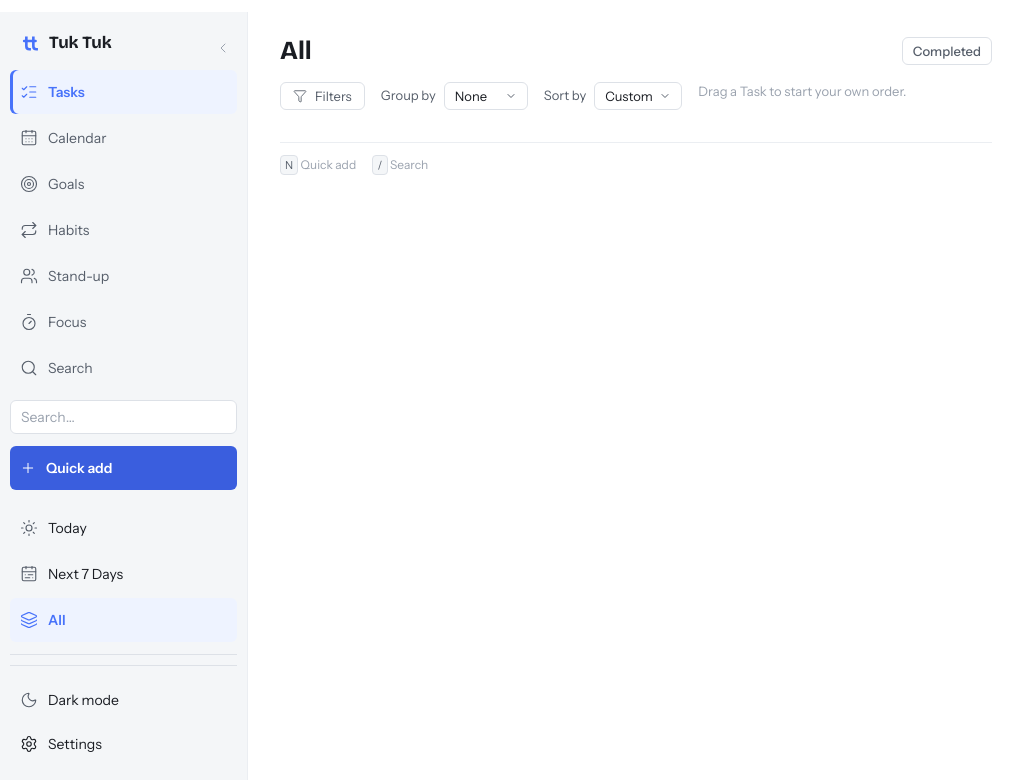
it: Assist settings (ADR 0005) › Test connection reports availability from the status endpoint
Click the link "Settings".
click(61, 744)  # box [20, 734, 102, 753]
(page scrolled)
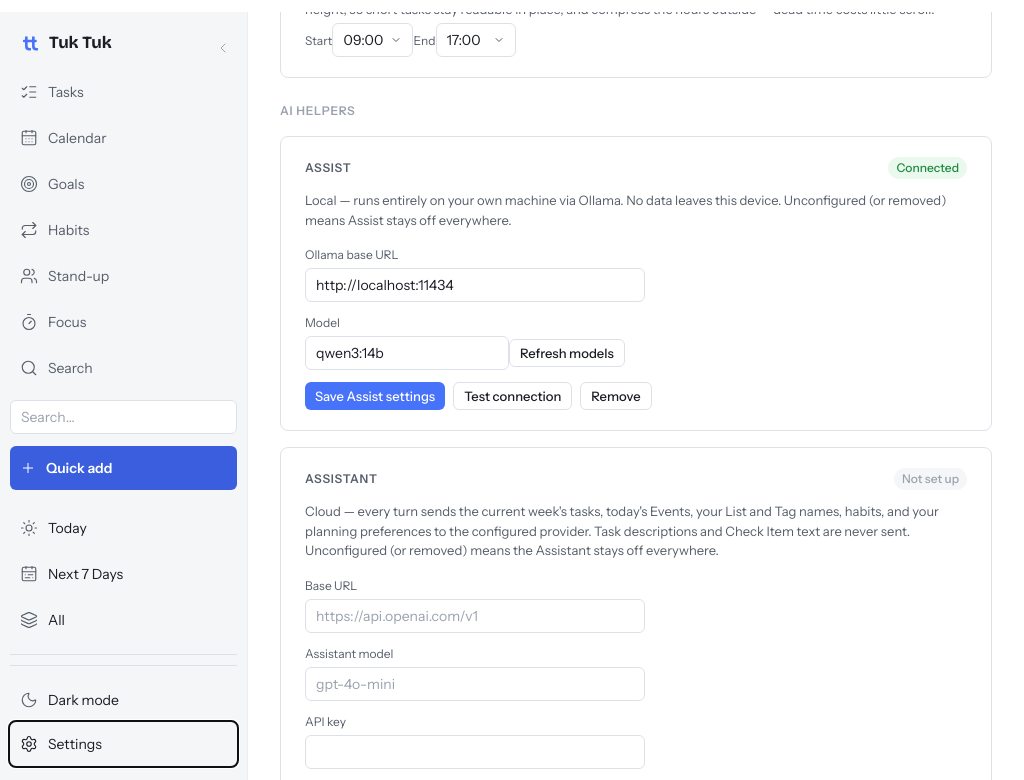
Click the button "Test connection".
click(513, 396)  # box [453, 382, 572, 410]
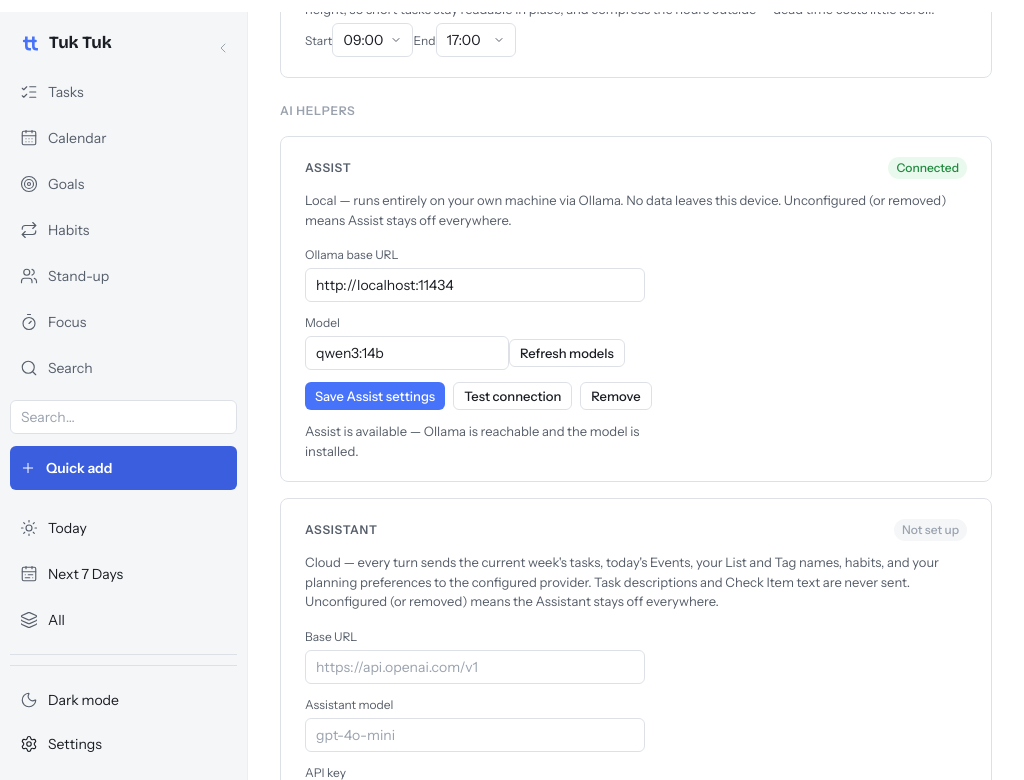
Result: the text "Assist is available — Ollama is reachable and the model is installed." is shown at [305, 422, 645, 461]
